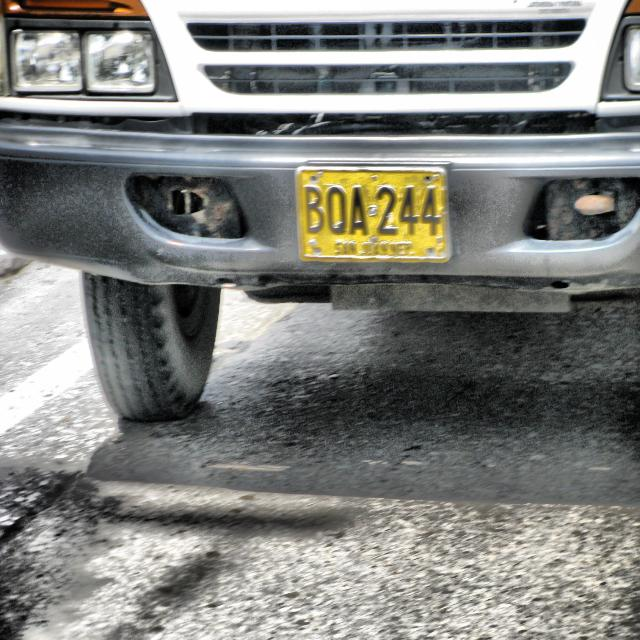plate: (295, 166, 451, 263)
